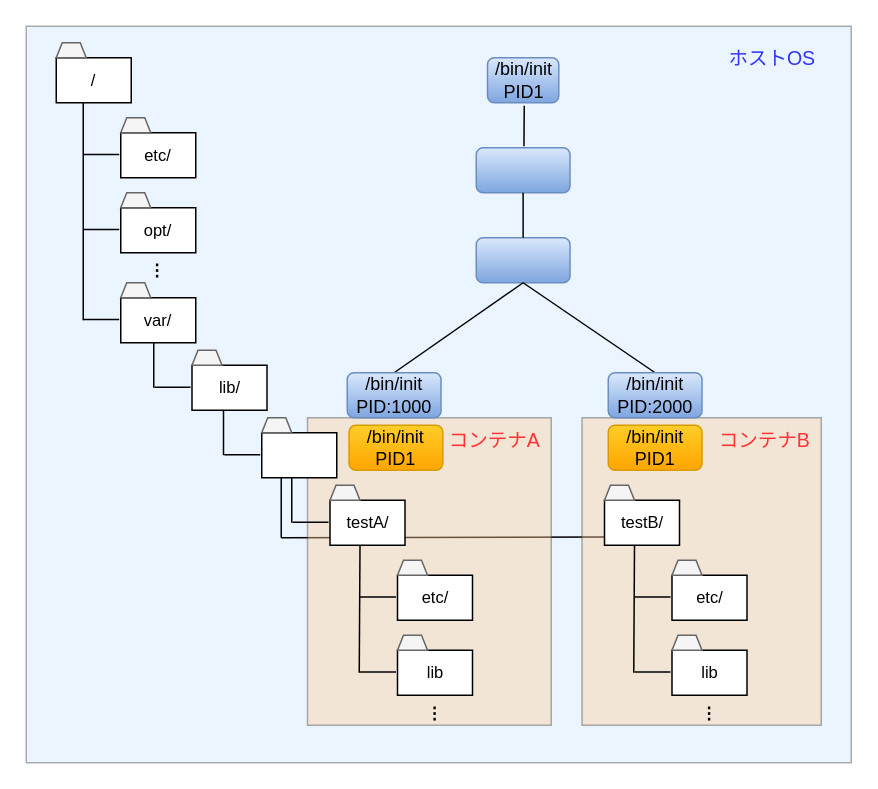
Some shapes in this 878 by 789 pixel diagram are drawn without their labels. The centre of each missing label's shape, as x and y in pixels:
"container/" goes at [298,454].
"containerd PID:950" goes at [522,259].
"dockerd PID:900" goes at [522,169].
